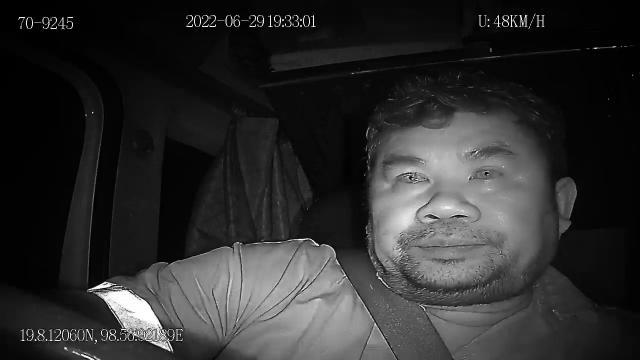SafeDriving: (384, 158, 439, 192), (462, 154, 513, 188)
Seatbelt: (334, 248, 458, 360)
